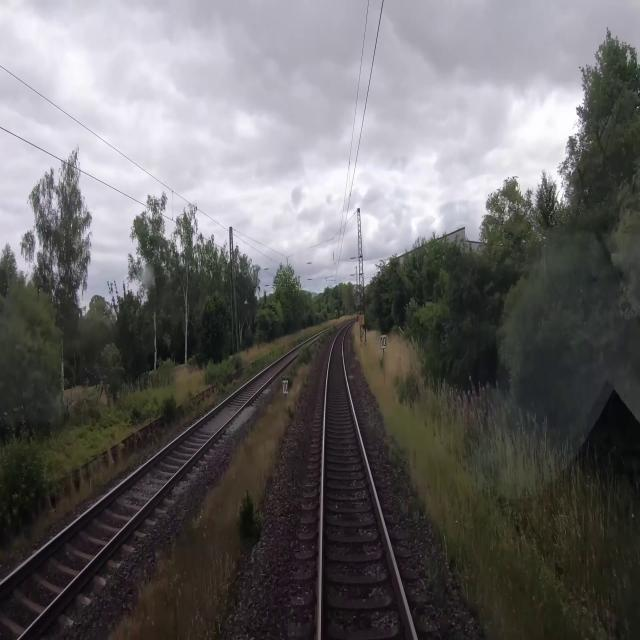Plant: (108, 328, 336, 639), (380, 429, 432, 541), (426, 556, 448, 609), (444, 629, 456, 639), (417, 596, 423, 612), (470, 629, 477, 639)
